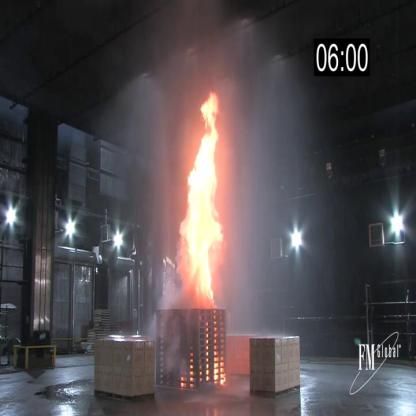fire: (178, 89, 230, 309)
